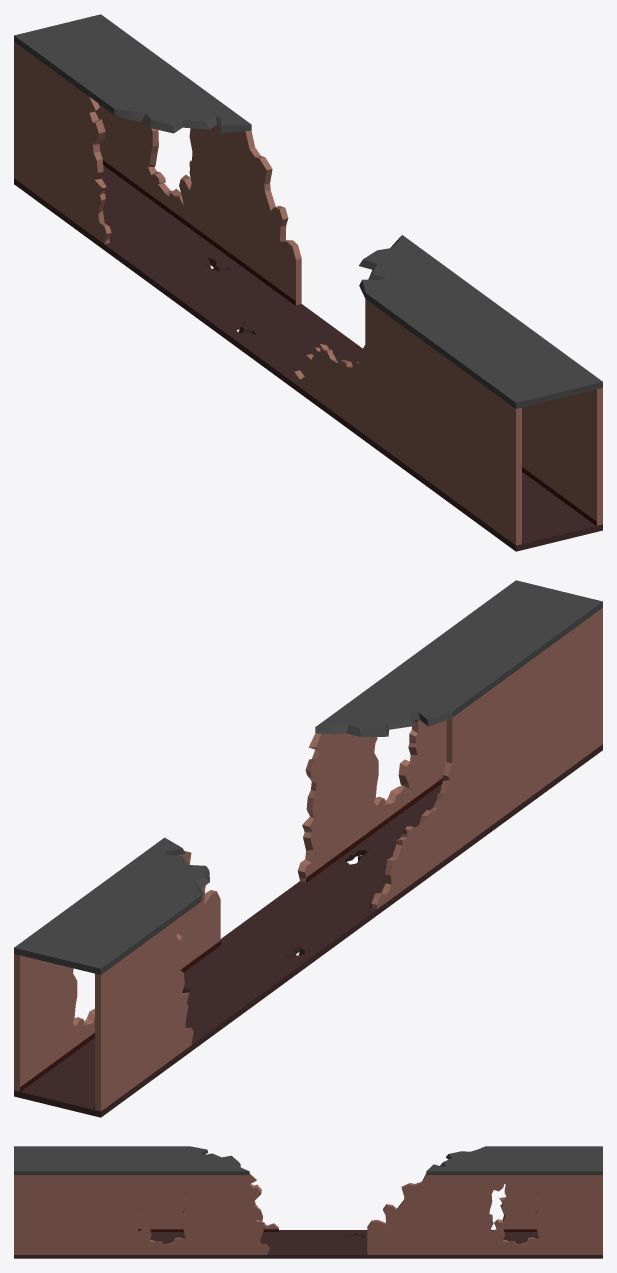
Rendered from CouloirDetruit.fbx.
The picture shows the model from 3 angles, top to bottom: view 1: azimuth 30°, elevation 25°; view 2: azimuth 150°, elevation 25°; view 3: azimuth 270°, elevation 25°; orthographic projection. The views are drawn at different scales.
Visible parts, largest first — view 1: CouloirDetruit; view 2: CouloirDetruit; view 3: CouloirDetruit.
Boxes of the visible parts, x1,y1,x2,y2 form: CouloirDetruit: (14, 14, 602, 551); CouloirDetruit: (14, 580, 602, 1117); CouloirDetruit: (14, 1146, 602, 1258).
Size of the model in its own units: 200 by 327 by 2000.
